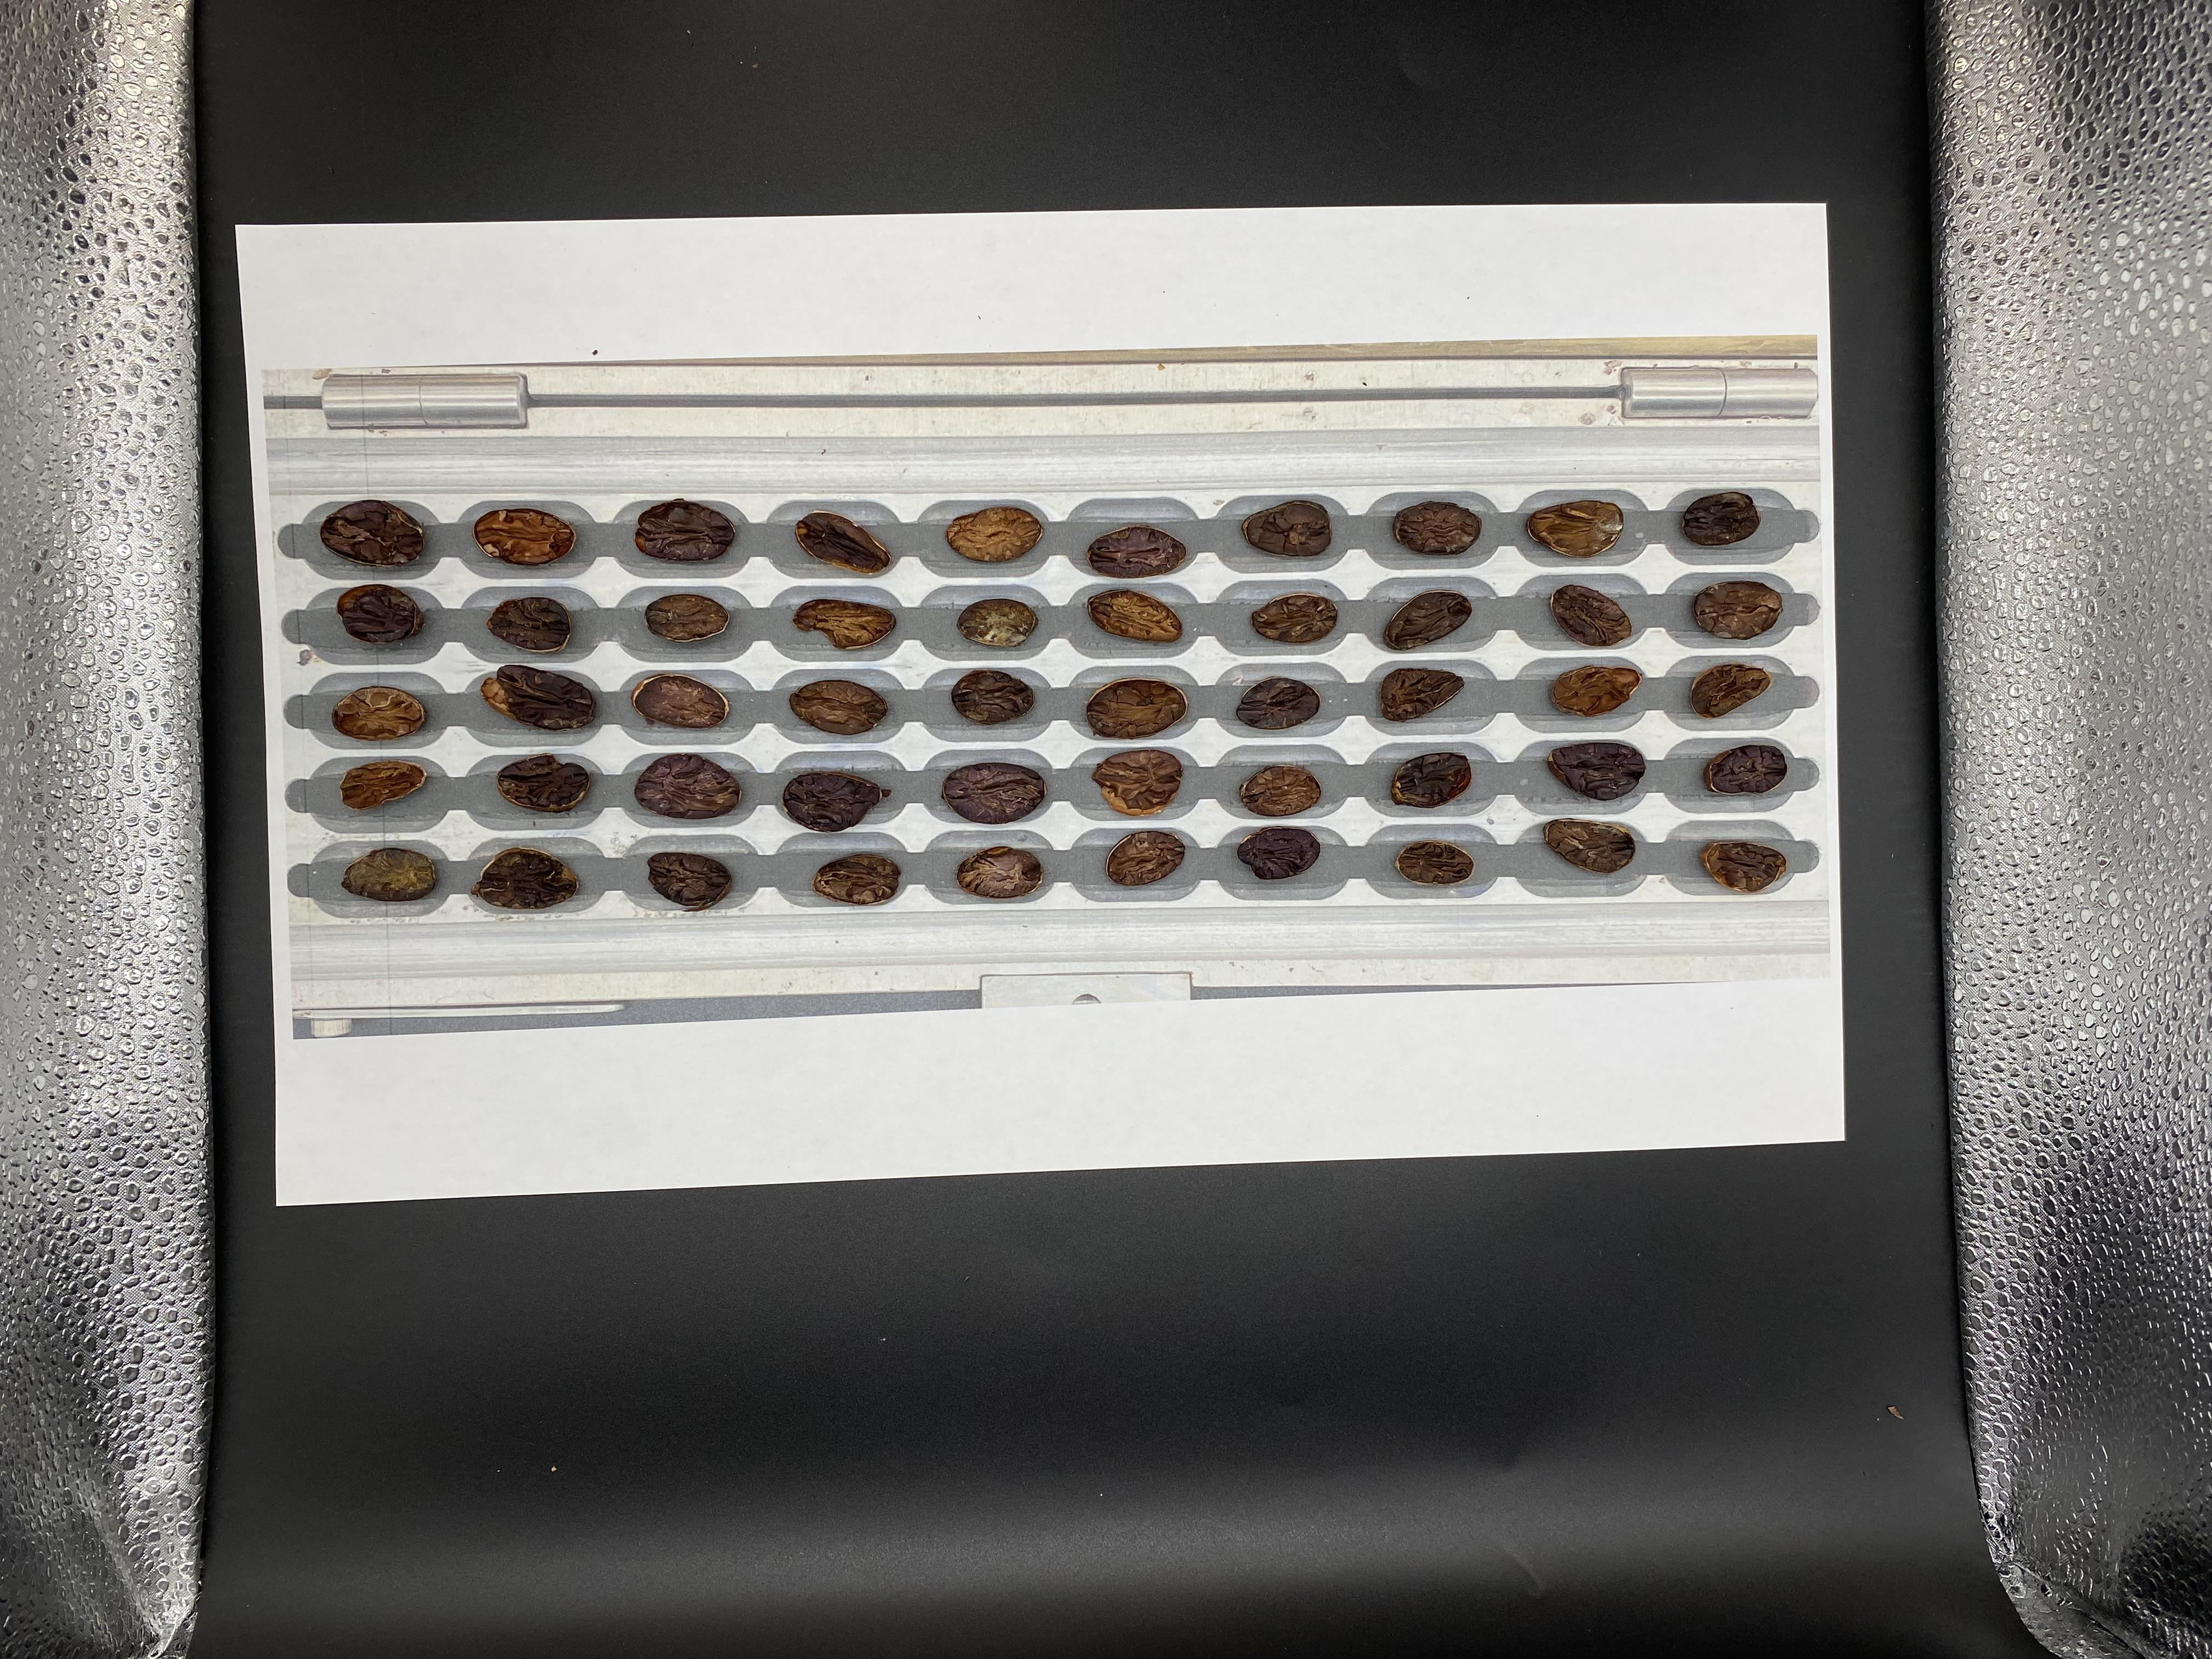Brown - G1: (237, 1072, 296, 1108), (550, 1195, 608, 1232), (631, 1114, 683, 1148), (409, 1248, 463, 1281), (169, 1199, 223, 1230)
Brown - G2: (164, 1164, 219, 1199), (782, 1150, 838, 1185), (401, 1117, 462, 1148), (549, 1112, 604, 1145), (697, 1152, 749, 1187), (860, 1241, 914, 1274), (559, 1236, 606, 1270)
Brown - G3: (547, 1157, 610, 1197), (857, 1108, 911, 1147), (702, 1068, 758, 1105), (477, 1072, 535, 1107), (397, 1161, 456, 1194), (779, 1230, 834, 1265), (852, 1150, 904, 1185), (786, 1110, 831, 1148), (482, 1244, 535, 1277), (625, 1202, 676, 1234)
Brown - G4: (324, 1115, 374, 1147)
Insect-damaged: (171, 1244, 225, 1279)
Mouldy: (772, 1066, 829, 1103), (482, 1115, 533, 1150)
Partly Purple - G1: (251, 1197, 303, 1234), (244, 1117, 298, 1152)
Partly Purple - G2: (317, 1195, 383, 1237), (317, 1065, 378, 1105)
Partly Purple - G3: (549, 1080, 606, 1112)
Partly Purple - G4: (317, 1155, 374, 1190)
Total Purple - G3: (474, 1201, 538, 1239), (394, 1204, 453, 1243), (624, 1234, 679, 1267), (862, 1192, 913, 1225)
Very Dark Brown - G1: (240, 1150, 307, 1194), (237, 1244, 298, 1284), (169, 1112, 219, 1148), (704, 1239, 752, 1270)
Very Dark Brown - G2: (158, 1070, 219, 1110), (397, 1073, 456, 1114), (782, 1190, 841, 1225), (702, 1195, 752, 1232), (324, 1248, 376, 1283), (479, 1154, 531, 1187), (848, 1063, 900, 1096)
Very Dark Brown - G3: (697, 1115, 752, 1154), (629, 1068, 681, 1103), (625, 1157, 676, 1192)
